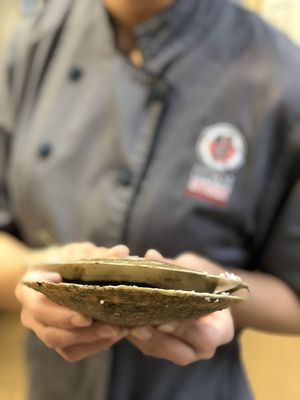burger: (16, 257, 252, 328)
